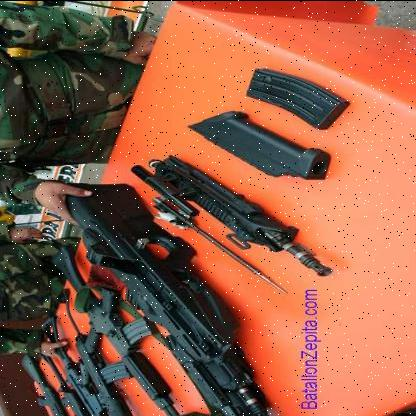rifle: (32, 236, 190, 416)
